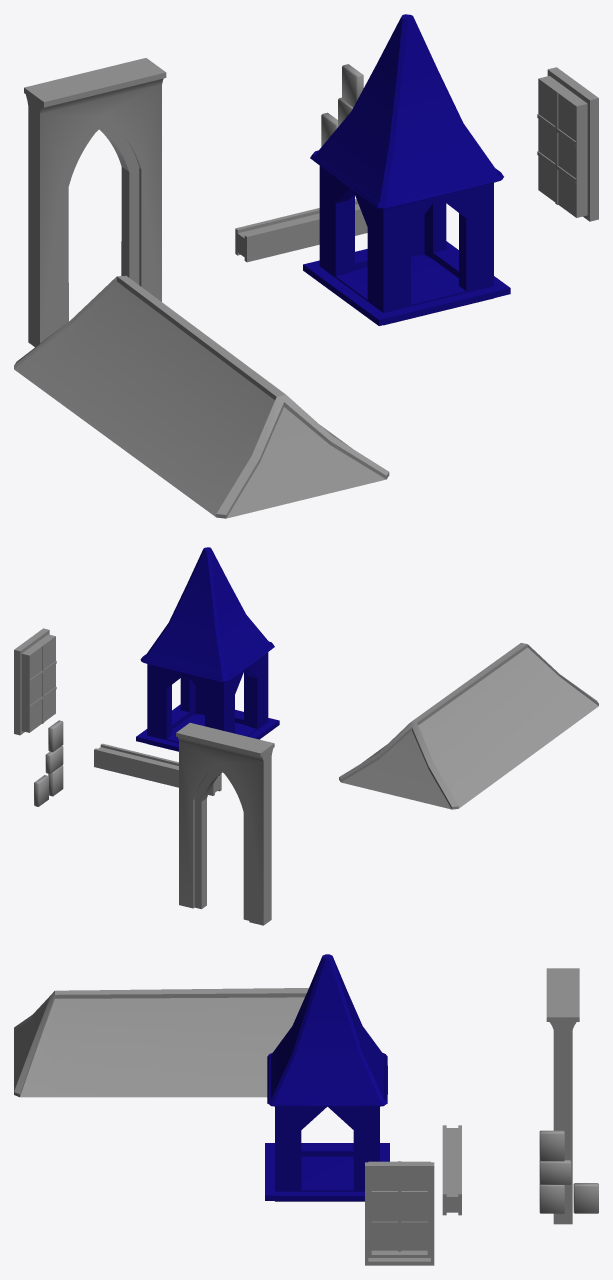
File: Building Set.FBX
The picture shows the model from 3 angles, top to bottom: view 1: azimuth 30°, elevation 25°; view 2: azimuth 150°, elevation 25°; view 3: azimuth 270°, elevation 25°; orthographic projection. The views are drawn at different scales.
Parts seen in each view (by area): view 1: Roof, Steeple, Arch, Window, Girder, BrickSet; view 2: Roof, Steeple, Arch, Window, Girder, BrickSet; view 3: Roof, Steeple, Window, Arch, BrickSet, Girder, Brick.
Part boxes in pixels (x1,y1,x2,y2): Roof: (14,275,389,518); Steeple: (303,14,510,325); Arch: (24,58,166,346); Window: (537,67,598,221); Girder: (235,199,367,262); BrickSet: (338,64,363,125); Roof: (339,643,598,809); Steeple: (136,547,279,751); Arch: (176,722,274,925); Window: (14,628,56,735); Girder: (94,743,221,795); BrickSet: (45,720,63,796); Roof: (14,988,308,1097); Steeple: (265,954,389,1201); Window: (365,1161,434,1265); Arch: (546,968,579,1224); BrickSet: (539,1130,571,1213); Girder: (442,1125,461,1215); Brick: (573,1183,598,1213).
Size of the model in its own units: 171 by 105 by 178.
